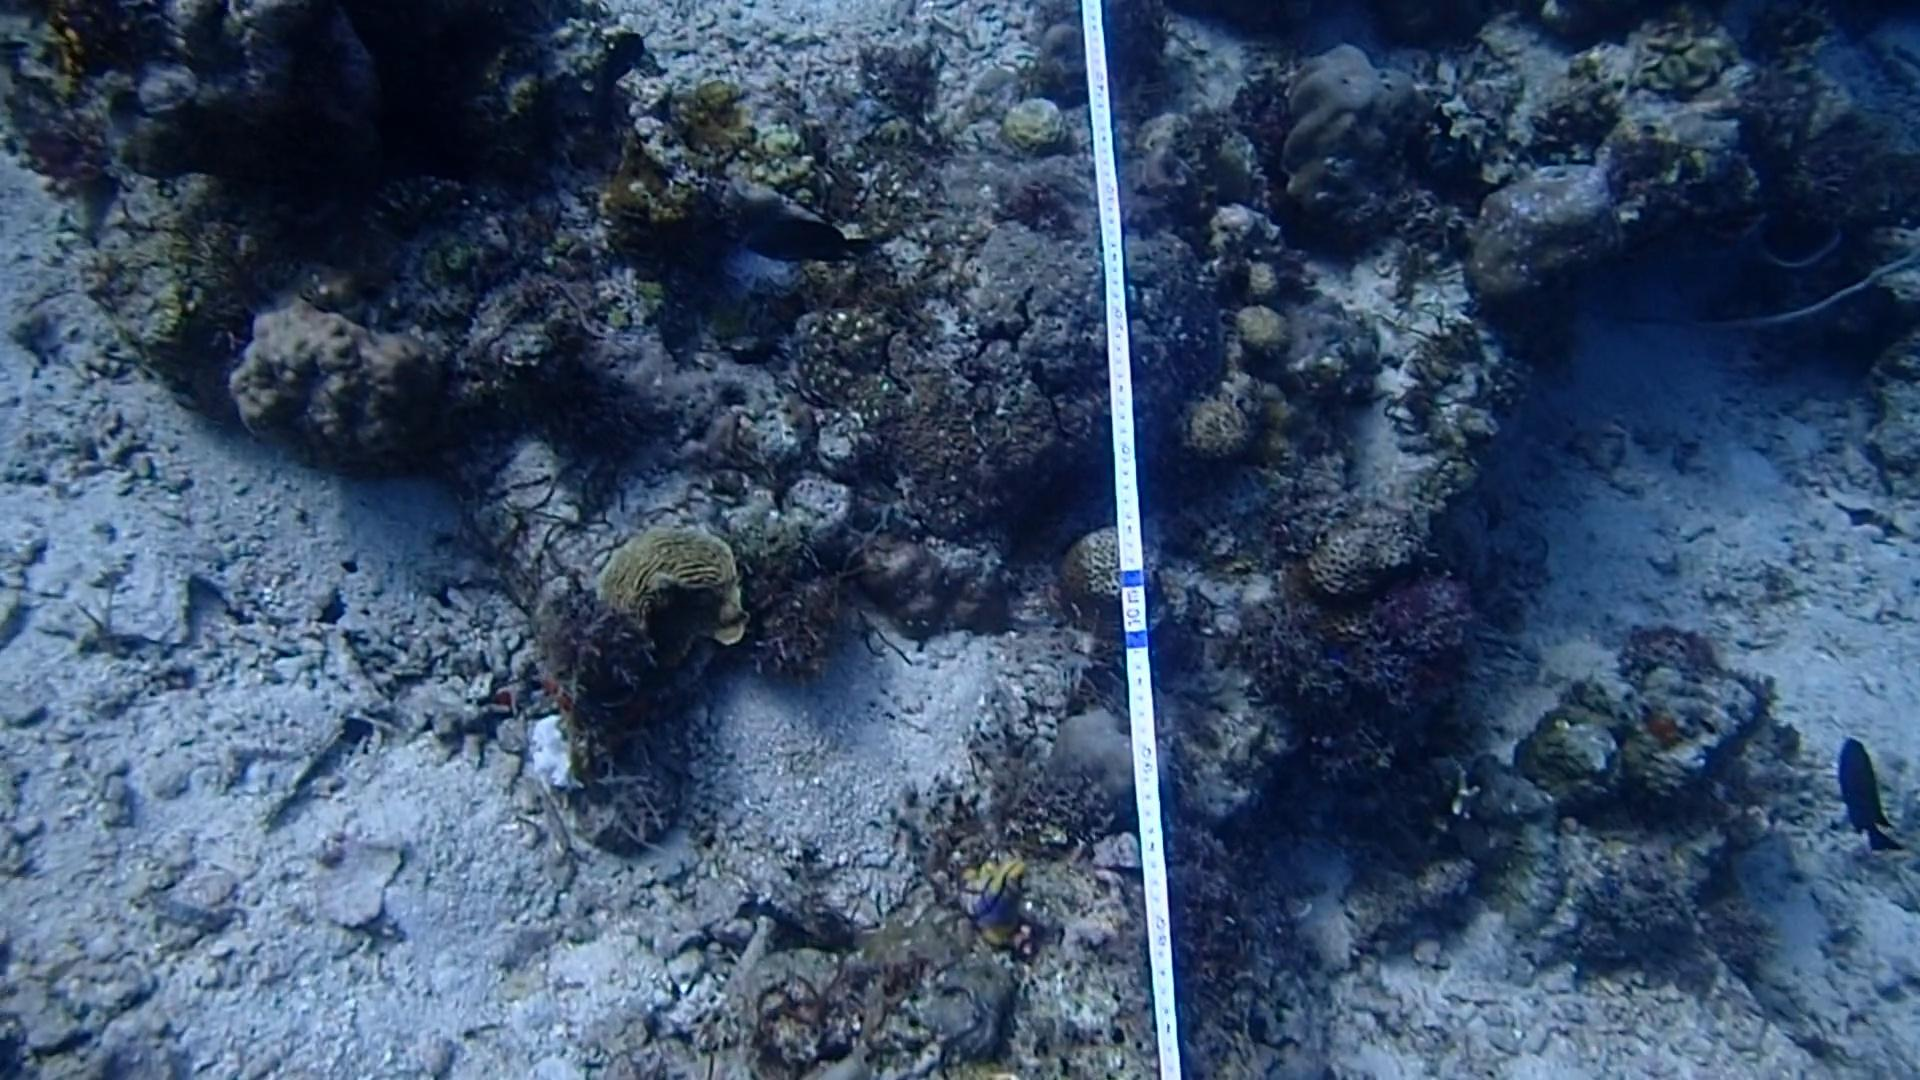Dark Fish: (1818, 717, 1908, 855), (740, 198, 865, 276)
